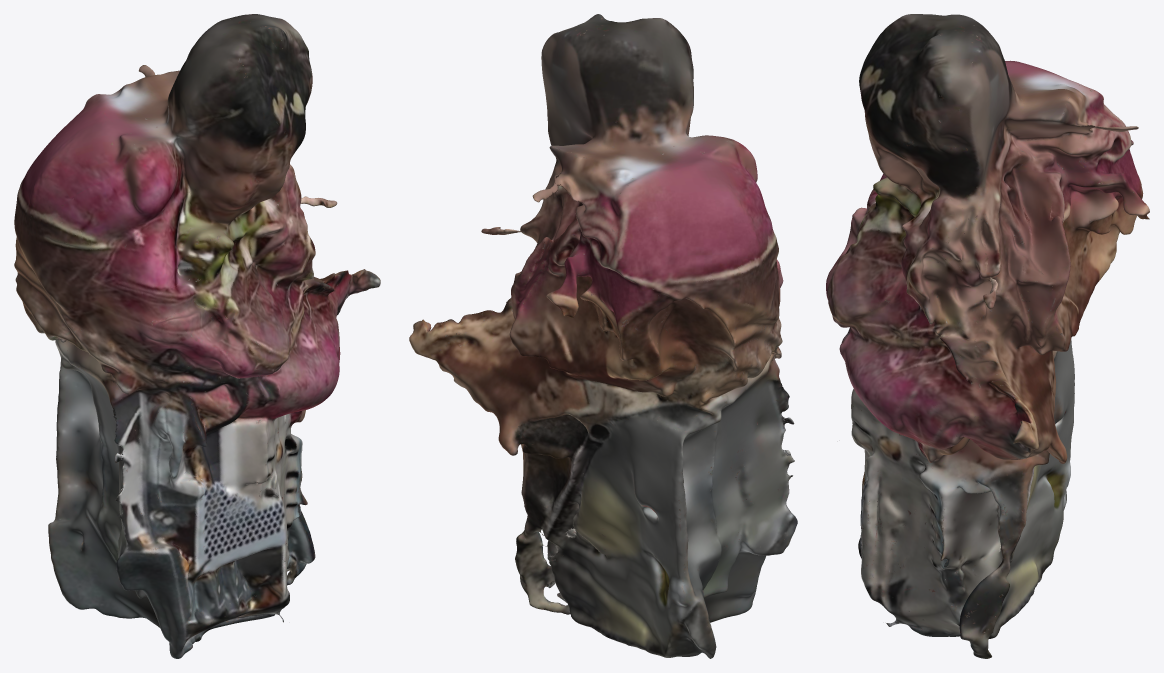
File: Francesco_Grassi_Klonema.glb
3 views of the same model, side by side, from view 1: azimuth 30°, elevation 25°; view 2: azimuth 150°, elevation 25°; view 3: azimuth 270°, elevation 25° (orthographic). The views are drawn at different scales.
Parts seen in each view (by area): view 1: geometry_0; view 2: geometry_0; view 3: geometry_0.
Boxes of the visible parts, x1,y1,x2,y2 form: geometry_0: [14, 14, 380, 658]; geometry_0: [409, 14, 797, 658]; geometry_0: [826, 14, 1149, 658].
Size of the model in its own units: 0.8198 by 1.31 by 0.6351.
1 material, 1 textured.
